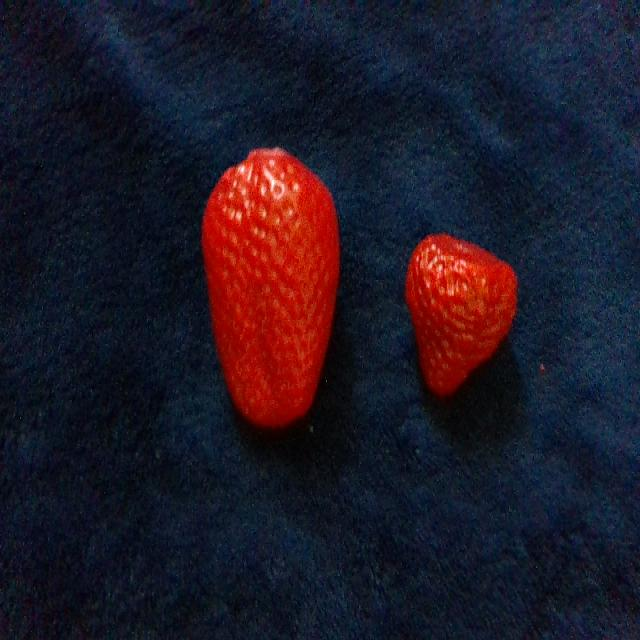chica_roja: (406, 235, 517, 395)
grande_roja: (202, 149, 339, 425)
